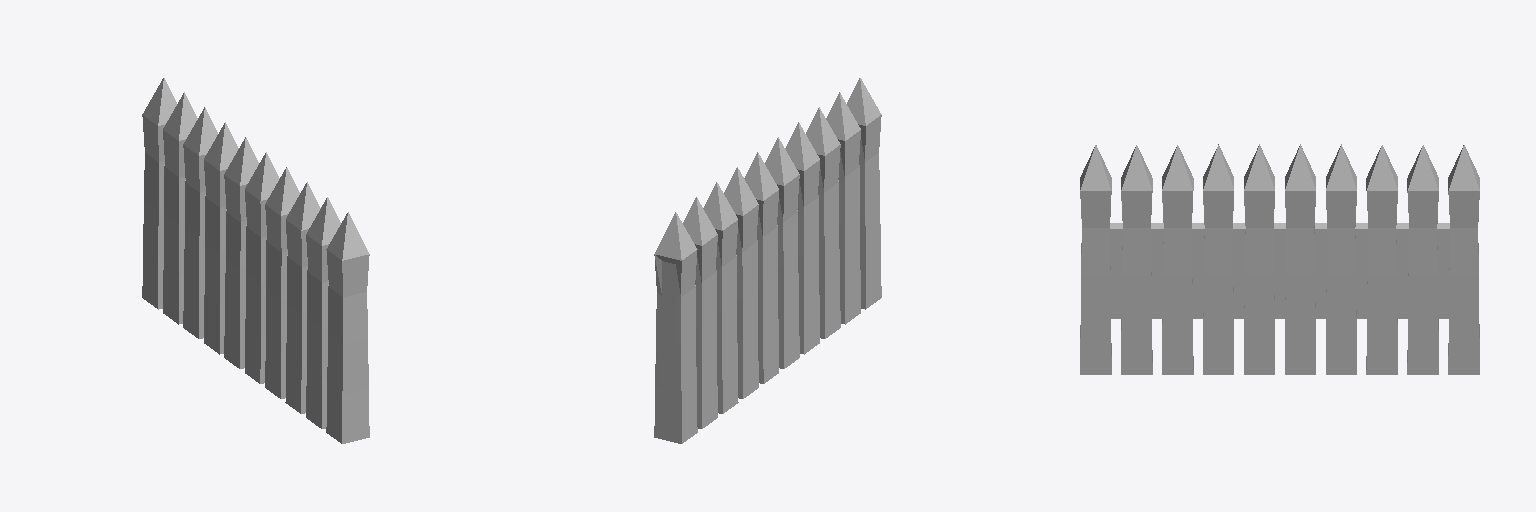
The model's file is fence.obj.
The picture shows the model from 3 angles: view 1: azimuth 30°, elevation 25°; view 2: azimuth 150°, elevation 25°; view 3: azimuth 270°, elevation 25°; orthographic projection.
Parts seen in each view (by area): view 1: Cube; view 2: Cube; view 3: Cube.
Boxes of the visible parts, x1=… form: Cube: x1=142, y1=78, x2=369, y2=443; Cube: x1=654, y1=78, x2=881, y2=443; Cube: x1=1080, y1=144, x2=1479, y2=374.
Bounding box in the file's own units: 1.52 × 11.82 × 19.15.